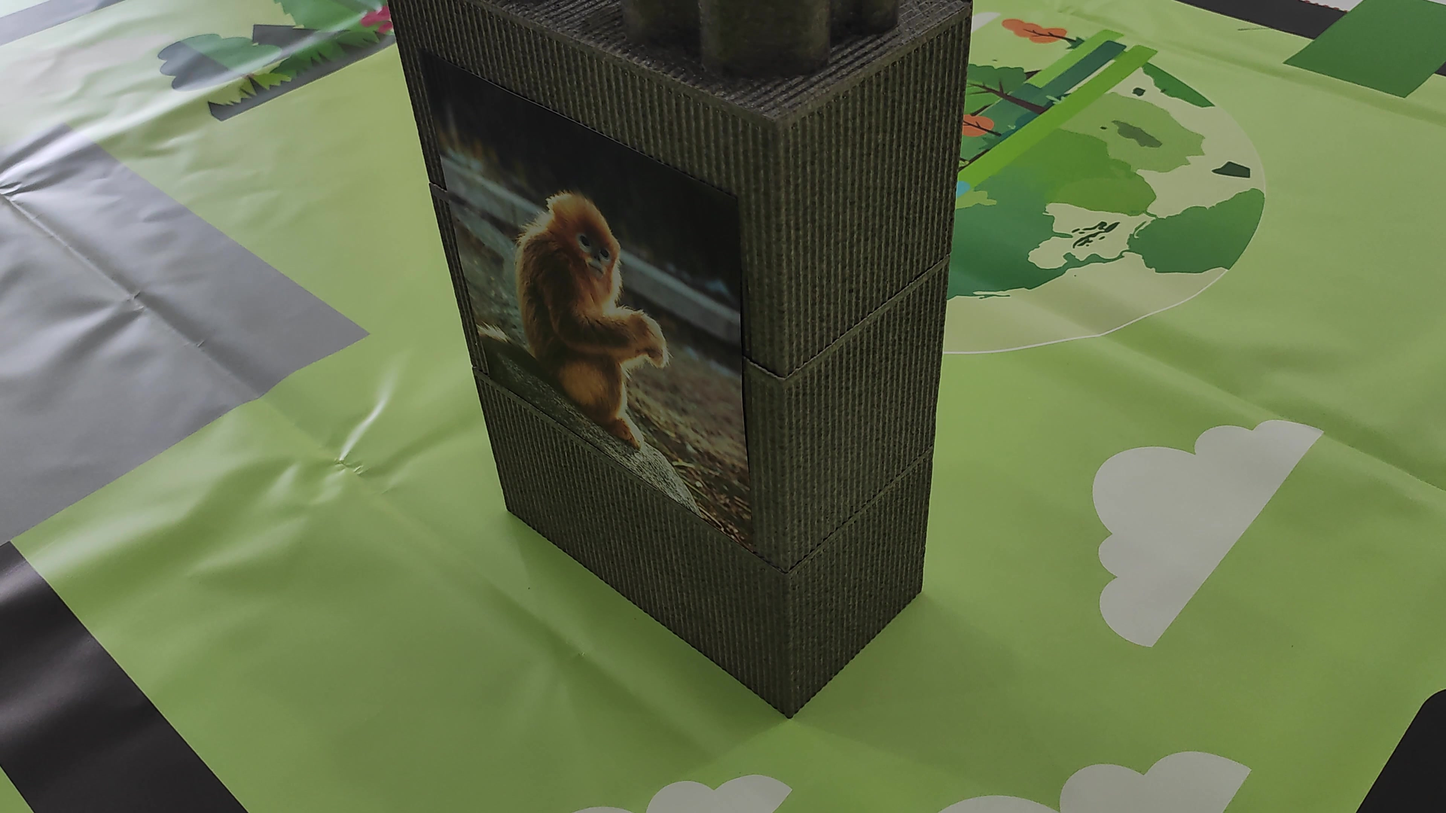monkey: (466, 145, 692, 464)
